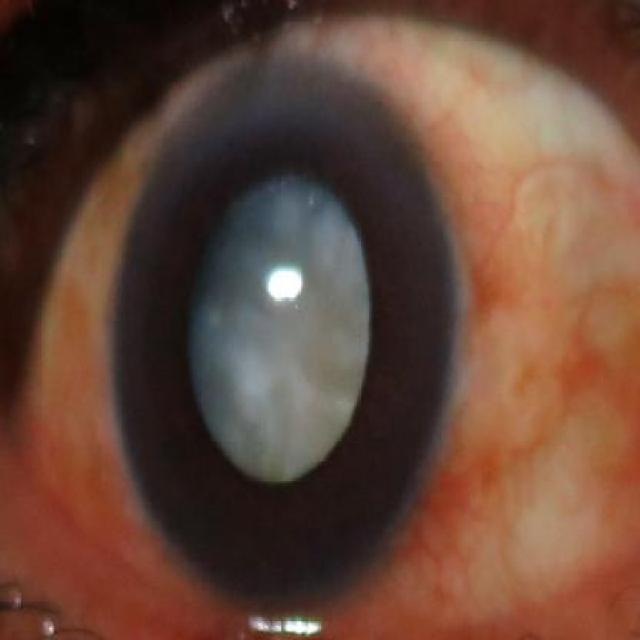Cataract: (104, 50, 445, 606)
